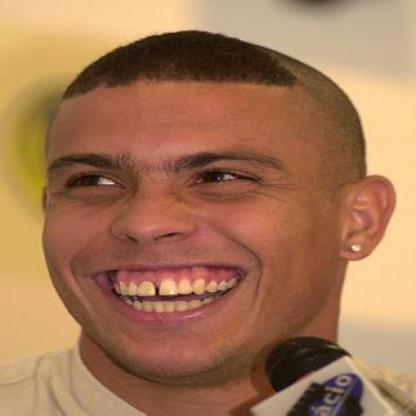face: (38, 33, 349, 387)
